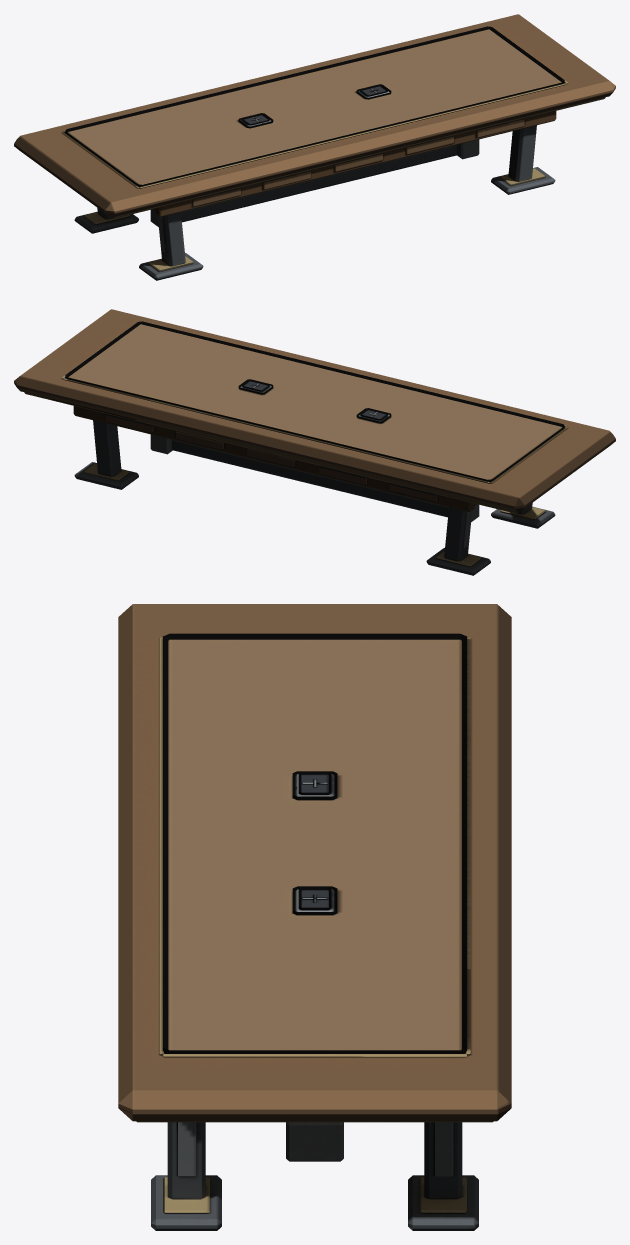
Rendered from 0-20261016-1900-ev050-r09-cfo-boardroomtable_baked.glb.
3 views of the same model, one above another, from view 1: azimuth 30°, elevation 25°; view 2: azimuth 150°, elevation 25°; view 3: azimuth 270°, elevation 25° (orthographic). The views are drawn at different scales.
Parts seen in each view (by area): view 1: SW_Exec_BoardroomTable; view 2: SW_Exec_BoardroomTable; view 3: SW_Exec_BoardroomTable.
Part boxes in pixels (<box>): SW_Exec_BoardroomTable: <box>14,14,615,280</box>; SW_Exec_BoardroomTable: <box>14,309,615,575</box>; SW_Exec_BoardroomTable: <box>118,604,511,1230</box>.
Bounding box in the file's own units: 4.5 × 0.831 × 1.5.
1 material, 1 textured.
